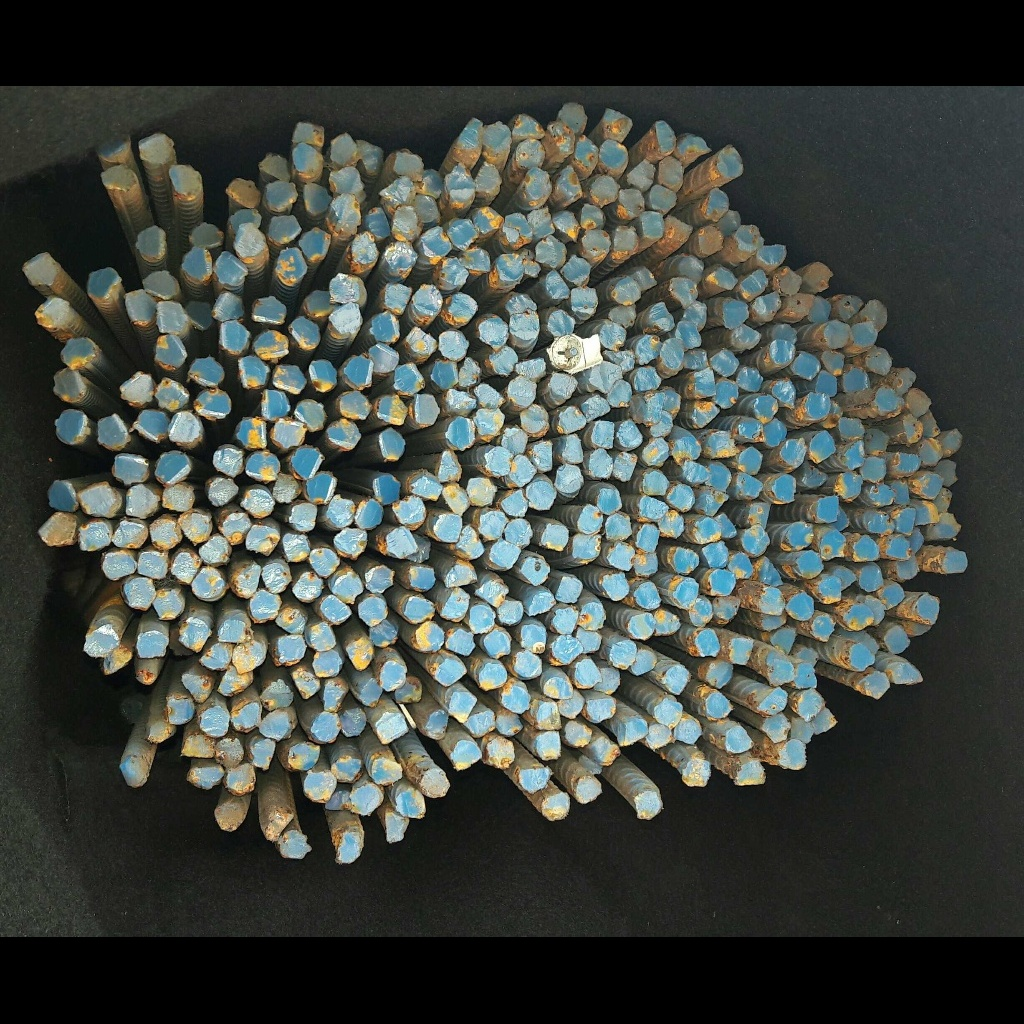dipstick: (79, 483, 118, 518), (54, 409, 89, 445), (443, 291, 478, 326), (133, 409, 169, 443), (155, 451, 191, 485), (22, 253, 59, 286), (38, 512, 76, 544), (155, 300, 188, 336), (97, 414, 130, 449), (126, 484, 159, 519), (246, 523, 281, 556), (60, 337, 97, 368), (193, 389, 231, 419), (444, 168, 474, 206), (53, 368, 87, 401), (234, 223, 267, 257), (393, 496, 426, 530), (155, 377, 190, 409), (120, 372, 155, 404), (179, 617, 211, 652), (187, 758, 223, 789), (156, 335, 188, 369), (434, 257, 468, 289), (113, 453, 150, 482), (230, 563, 261, 597), (381, 176, 415, 207), (35, 297, 70, 327), (227, 178, 262, 208), (189, 357, 224, 387), (84, 626, 119, 656), (502, 213, 532, 248), (253, 329, 289, 358), (354, 138, 381, 176), (169, 163, 201, 195), (78, 519, 110, 551), (304, 771, 336, 803), (87, 268, 120, 299), (192, 567, 225, 598), (199, 534, 232, 565), (233, 641, 266, 672), (329, 303, 362, 334), (375, 713, 408, 744), (273, 364, 307, 394), (328, 167, 363, 196), (250, 296, 286, 324), (299, 228, 331, 259), (169, 411, 200, 443), (124, 578, 155, 610), (250, 589, 282, 620), (220, 513, 251, 545), (294, 399, 325, 431), (387, 527, 418, 559), (136, 226, 166, 259), (215, 252, 248, 282), (290, 317, 320, 350), (178, 513, 211, 543), (306, 471, 336, 504), (327, 420, 360, 450), (333, 528, 366, 558), (445, 416, 475, 449), (293, 143, 322, 177), (218, 667, 252, 696), (101, 552, 137, 579), (48, 480, 79, 511), (212, 446, 243, 477), (238, 356, 269, 387), (350, 784, 381, 815), (420, 227, 451, 258), (219, 321, 249, 353), (260, 709, 292, 739), (226, 762, 256, 794), (310, 711, 340, 743), (243, 488, 275, 518), (292, 446, 322, 478), (478, 317, 508, 349), (125, 290, 154, 323), (149, 519, 182, 548), (179, 673, 212, 702), (393, 149, 422, 182), (246, 452, 280, 480), (384, 242, 418, 270), (440, 589, 468, 623), (474, 162, 502, 196), (393, 204, 418, 242), (112, 522, 148, 548), (182, 247, 212, 278), (277, 248, 307, 279), (451, 740, 482, 770), (551, 635, 582, 665), (268, 215, 300, 244), (162, 482, 194, 511), (260, 680, 292, 709), (308, 360, 337, 392), (536, 236, 565, 268), (334, 571, 362, 604), (700, 188, 728, 221), (303, 183, 330, 217), (143, 271, 178, 297), (152, 590, 182, 620), (330, 273, 360, 303), (358, 596, 388, 626), (395, 363, 425, 393), (266, 181, 297, 210), (231, 703, 262, 732), (214, 800, 243, 831), (264, 810, 293, 841), (292, 573, 323, 602), (238, 419, 269, 448), (275, 418, 306, 447), (330, 134, 359, 165), (371, 311, 400, 342), (483, 738, 514, 767), (448, 219, 479, 248), (598, 140, 627, 171), (200, 641, 232, 669), (338, 392, 370, 420), (477, 580, 509, 608), (139, 134, 172, 161), (189, 222, 223, 248), (548, 120, 574, 154), (650, 120, 676, 154), (658, 156, 684, 190), (101, 165, 136, 190), (200, 706, 229, 736), (321, 595, 350, 625), (310, 547, 339, 577), (331, 193, 360, 223), (343, 357, 373, 386), (368, 343, 398, 372), (345, 640, 374, 670), (396, 788, 425, 818), (491, 539, 521, 568), (475, 407, 504, 437), (412, 285, 442, 314), (516, 138, 545, 168), (560, 256, 589, 286), (551, 211, 580, 241), (794, 690, 824, 719), (212, 292, 243, 320), (288, 742, 319, 770), (305, 623, 336, 651), (208, 478, 239, 506), (384, 282, 412, 313), (410, 394, 438, 425), (603, 109, 631, 140), (610, 276, 641, 304), (911, 471, 942, 499), (137, 630, 169, 657), (405, 327, 437, 354), (557, 167, 584, 199), (716, 145, 743, 177), (291, 670, 320, 699), (420, 768, 449, 797), (377, 396, 406, 425), (508, 377, 537, 406), (590, 176, 619, 205), (260, 154, 290, 182), (262, 563, 290, 593), (273, 473, 301, 503), (355, 499, 383, 529), (363, 566, 393, 594), (415, 622, 443, 652), (439, 329, 467, 359), (520, 557, 548, 587), (875, 386, 903, 416), (170, 552, 197, 583), (119, 756, 146, 787), (322, 681, 349, 712), (262, 390, 289, 421), (378, 428, 405, 459), (373, 474, 400, 505), (449, 691, 476, 722), (410, 474, 441, 501), (485, 445, 512, 476), (520, 404, 547, 435), (509, 456, 536, 487), (327, 495, 353, 527), (477, 511, 505, 540), (441, 484, 469, 513), (681, 758, 710, 786), (526, 481, 555, 509), (559, 103, 587, 132), (786, 592, 814, 621), (138, 552, 168, 579), (164, 696, 194, 723), (276, 607, 306, 634), (445, 388, 475, 415), (627, 160, 654, 190), (352, 233, 378, 264), (457, 118, 483, 149), (471, 207, 502, 233), (525, 169, 551, 200), (723, 298, 749, 329), (366, 207, 391, 239), (331, 757, 363, 782), (459, 525, 484, 557), (229, 209, 262, 233), (385, 809, 409, 842), (512, 115, 545, 139), (215, 738, 243, 766), (514, 650, 542, 678), (433, 514, 461, 542), (466, 477, 494, 505), (496, 253, 524, 281), (619, 718, 647, 746), (525, 209, 553, 237), (649, 185, 677, 213), (735, 224, 763, 252), (792, 352, 820, 380), (282, 532, 309, 561), (404, 596, 433, 623), (414, 170, 441, 199), (484, 122, 511, 151), (634, 790, 661, 819), (590, 738, 619, 765), (654, 699, 681, 728), (556, 464, 583, 493), (372, 758, 402, 784), (445, 629, 475, 655), (643, 436, 669, 466), (460, 247, 491, 272), (810, 431, 835, 462), (913, 595, 938, 626), (292, 122, 324, 146), (218, 619, 251, 642), (186, 301, 213, 329), (280, 830, 307, 858), (312, 650, 340, 677), (505, 519, 532, 547), (577, 602, 605, 629), (554, 576, 582, 603), (633, 582, 660, 610), (611, 224, 638, 252), (787, 521, 814, 549), (757, 586, 784, 614), (768, 657, 795, 685), (762, 714, 790, 741), (276, 635, 305, 661), (290, 502, 316, 531), (305, 290, 334, 316), (380, 661, 406, 690), (468, 605, 494, 634), (520, 624, 546, 653), (594, 665, 620, 694), (711, 595, 740, 621), (617, 419, 643, 448), (571, 286, 597, 315), (741, 526, 767, 555), (710, 349, 739, 375), (820, 529, 846, 558), (884, 625, 910, 654), (146, 717, 176, 742), (437, 451, 462, 481), (586, 698, 616, 723), (519, 767, 550, 791), (688, 595, 712, 626), (575, 136, 599, 167), (479, 663, 506, 690), (431, 361, 458, 388), (542, 792, 569, 819), (552, 608, 579, 635), (706, 660, 733, 687), (558, 406, 585, 433), (759, 687, 786, 714), (369, 620, 397, 646), (436, 660, 464, 686), (502, 685, 530, 711), (664, 666, 690, 694), (673, 718, 701, 744), (628, 613, 656, 639), (540, 524, 568, 550), (603, 574, 629, 602), (678, 134, 706, 160), (669, 278, 697, 304), (702, 541, 728, 569), (825, 321, 851, 349), (865, 347, 891, 375), (444, 564, 477, 586), (536, 701, 561, 730), (575, 659, 600, 688), (581, 230, 610, 255), (664, 217, 693, 242), (706, 463, 731, 492), (781, 740, 806, 769), (337, 831, 361, 861), (690, 367, 714, 397), (732, 325, 762, 349), (183, 734, 214, 757), (252, 739, 275, 770), (675, 577, 698, 608), (661, 338, 684, 369), (468, 710, 495, 736), (490, 347, 517, 373), (511, 312, 538, 338), (726, 726, 753, 752), (608, 543, 635, 569), (549, 373, 576, 399), (678, 256, 704, 283), (693, 401, 720, 427), (753, 292, 780, 318), (835, 473, 861, 500), (853, 535, 880, 561), (341, 709, 366, 737), (611, 640, 636, 668), (606, 513, 631, 541), (649, 303, 674, 331), (659, 510, 684, 538), (707, 432, 735, 457), (753, 395, 778, 423), (812, 614, 837, 642), (425, 710, 449, 739), (578, 505, 602, 534), (588, 449, 612, 478), (697, 225, 721, 254), (475, 383, 505, 406), (543, 676, 573, 699), (735, 761, 765, 784), (614, 451, 637, 481), (531, 441, 553, 472), (864, 300, 886, 331), (484, 631, 510, 657), (576, 777, 602, 803), (564, 720, 590, 746), (706, 692, 732, 718), (736, 366, 762, 392), (837, 295, 863, 321), (851, 322, 877, 348), (780, 439, 806, 465), (862, 672, 888, 698), (396, 676, 421, 703), (496, 710, 523, 735), (631, 648, 656, 675), (695, 629, 720, 656), (673, 547, 698, 574), (600, 323, 625, 350), (633, 367, 660, 392), (675, 321, 700, 348), (695, 518, 722, 543), (728, 552, 753, 579), (735, 473, 762, 498), (740, 269, 767, 294), (769, 628, 796, 653), (845, 605, 872, 630), (536, 731, 560, 759), (572, 534, 600, 558), (559, 435, 583, 463), (582, 396, 610, 420), (618, 189, 642, 217), (639, 496, 667, 520), (762, 419, 786, 447), (905, 388, 929, 416), (771, 474, 795, 502), (714, 378, 737, 407), (501, 491, 527, 516), (575, 627, 601, 652), (579, 204, 604, 230), (640, 212, 665, 238), (710, 569, 735, 595), (769, 339, 794, 365), (860, 456, 886, 481), (934, 514, 960, 539), (797, 552, 823, 577), (559, 691, 583, 718), (607, 380, 631, 407), (673, 436, 700, 460), (738, 447, 762, 474), (772, 380, 796, 407), (838, 417, 865, 441), (637, 524, 660, 552), (591, 421, 614, 449), (637, 335, 660, 363), (681, 461, 709, 484), (940, 429, 963, 457), (892, 451, 920, 474), (865, 427, 888, 455), (912, 501, 940, 524), (860, 563, 883, 591), (730, 637, 752, 666), (888, 476, 910, 505), (497, 599, 522, 624), (633, 551, 658, 576), (596, 488, 621, 513), (669, 485, 694, 510), (805, 262, 830, 287), (738, 418, 763, 443), (503, 427, 527, 453), (655, 609, 679, 635), (646, 725, 673, 748), (528, 592, 555, 615), (546, 270, 569, 297), (806, 392, 829, 419), (892, 508, 915, 535), (902, 413, 922, 444), (918, 438, 940, 466), (864, 597, 885, 626), (788, 293, 812, 318), (888, 535, 912, 560), (881, 584, 905, 609), (849, 644, 873, 669), (548, 311, 574, 334), (609, 304, 635, 327), (818, 577, 841, 603), (778, 268, 800, 295), (844, 441, 866, 468), (888, 666, 921, 684), (359, 679, 381, 705), (650, 410, 672, 436), (822, 349, 844, 375), (516, 359, 546, 378), (506, 293, 536, 312), (758, 244, 786, 264), (410, 566, 434, 589), (712, 267, 736, 290), (643, 472, 668, 494), (844, 367, 869, 389), (942, 551, 967, 573), (795, 663, 816, 689), (809, 297, 830, 322), (818, 496, 838, 522), (717, 513, 737, 538), (870, 484, 893, 505), (772, 324, 796, 344), (898, 557, 919, 578)
